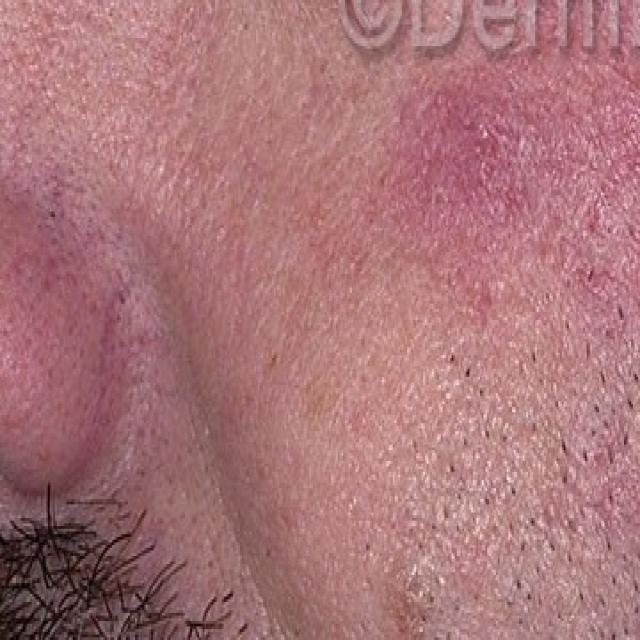Rosacea: (354, 98, 640, 296)
